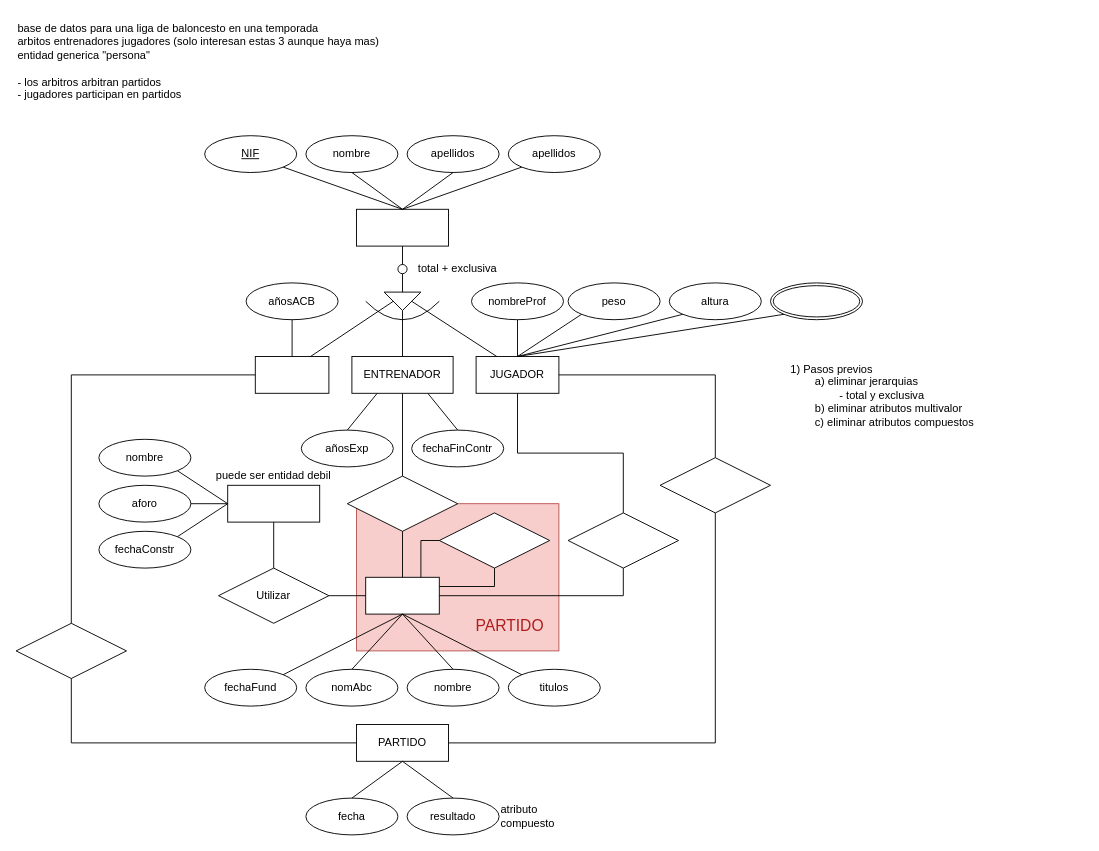
Some shapes in this 1099 by 851 pixel diagram are drawn without their labels. Each missing label, with the box of its shape:
Arbitrar: (15, 622, 126, 678)
ARBITRO: (254, 356, 329, 393)
Dirigir: (346, 475, 458, 531)
EQUIPO: (365, 576, 439, 614)
Jugar: (659, 457, 770, 513)
Jugar Contra: (438, 512, 550, 568)
PABELLON: (227, 484, 320, 522)
PERSONA: (356, 208, 448, 246)
Pertenecer: (567, 512, 678, 568)
posicion: (770, 282, 862, 320)
